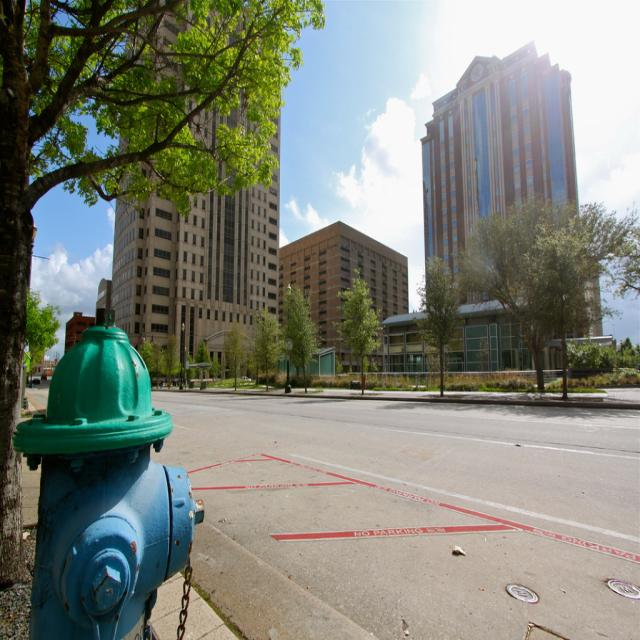fire_hydrant: (14, 302, 207, 640)
